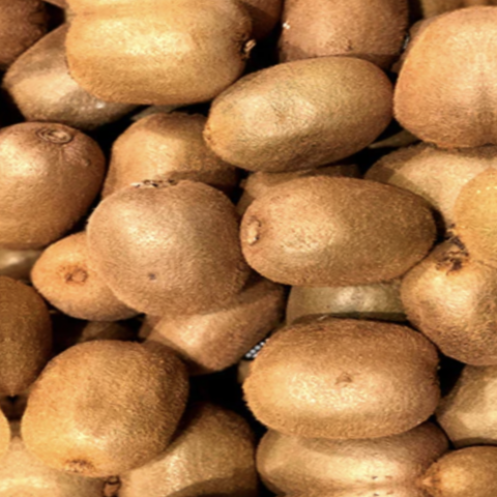kiwi: (231, 301, 460, 453), (73, 142, 260, 328), (187, 30, 394, 196), (9, 325, 211, 495), (226, 160, 452, 299), (53, 0, 252, 127)
